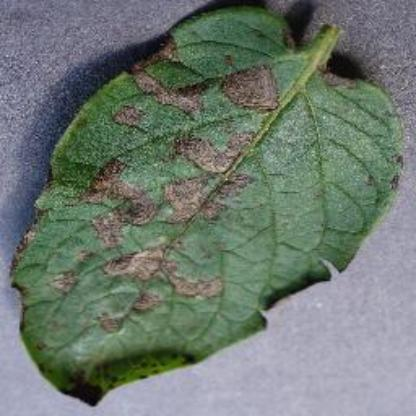Early-Blight: (12, 7, 402, 403)
